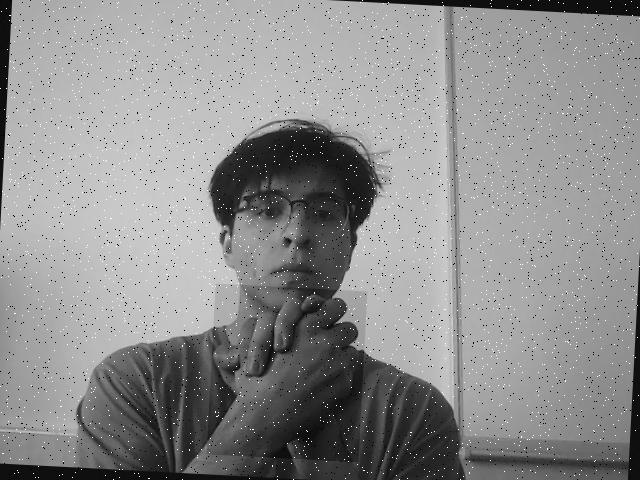friend: (212, 290, 362, 458)
